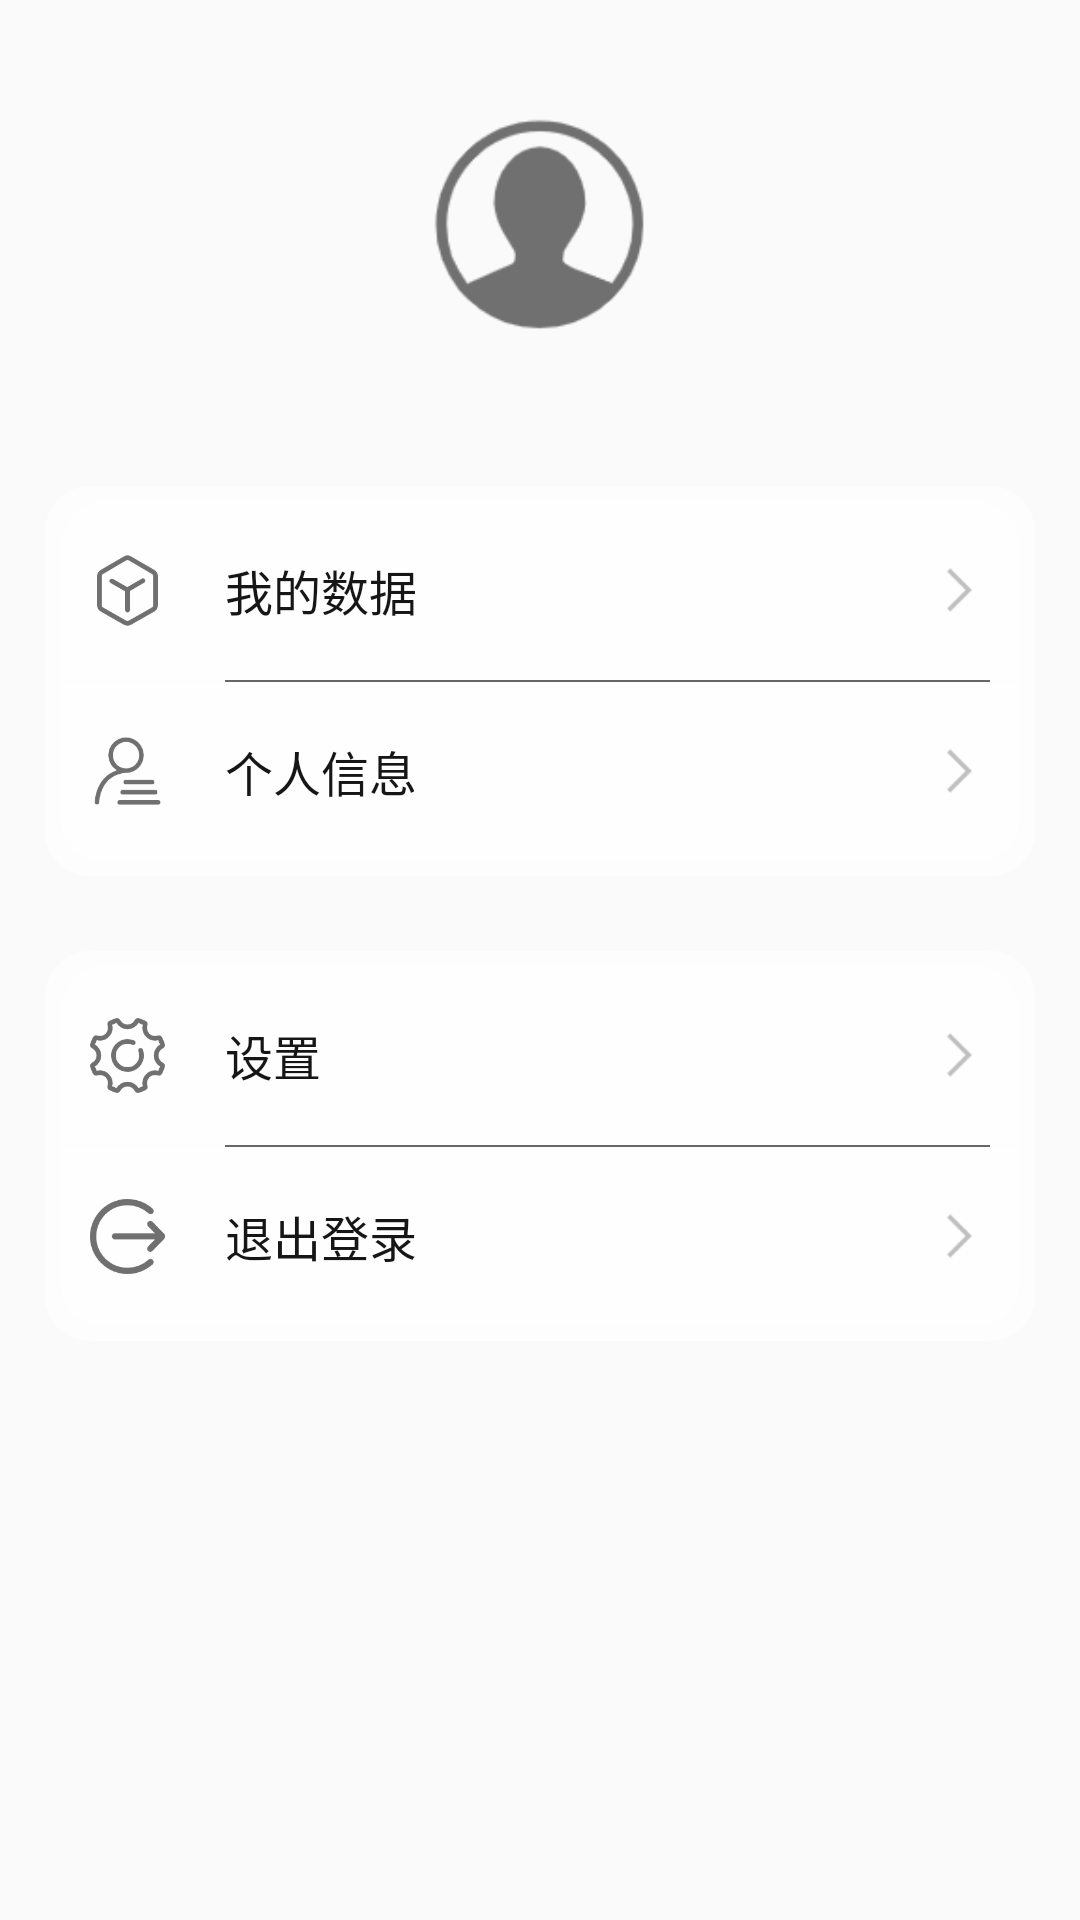

Where to tap for icons on this 1080x1920 app screen, as (x,y):
data: (127,590)
exit: (127,1236)
head: (539,224)
person info: (128,771)
right: (959,590), (959,771), (959,1055), (959,1236)
setting: (127,1055)
